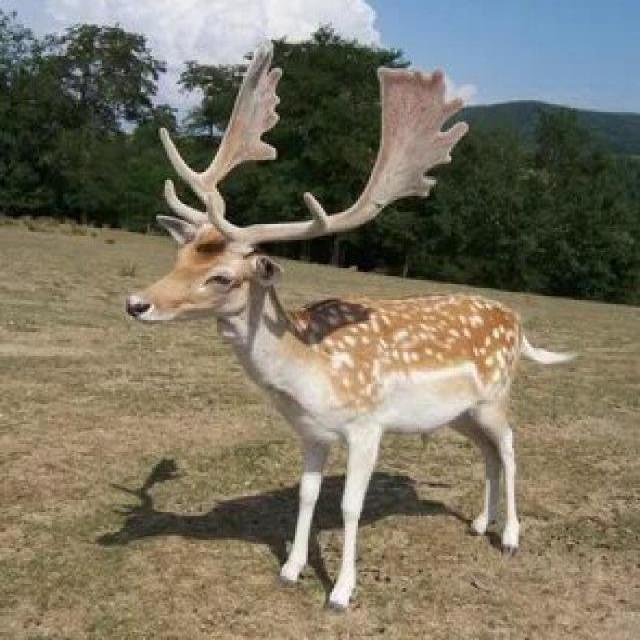deer: (128, 164, 622, 591)
